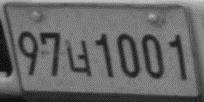0: (141, 32, 164, 79), (116, 32, 139, 77)
1: (168, 33, 188, 80), (94, 32, 114, 78)
7: (39, 31, 60, 76)
9: (17, 30, 38, 75)
너: (65, 38, 92, 77)
